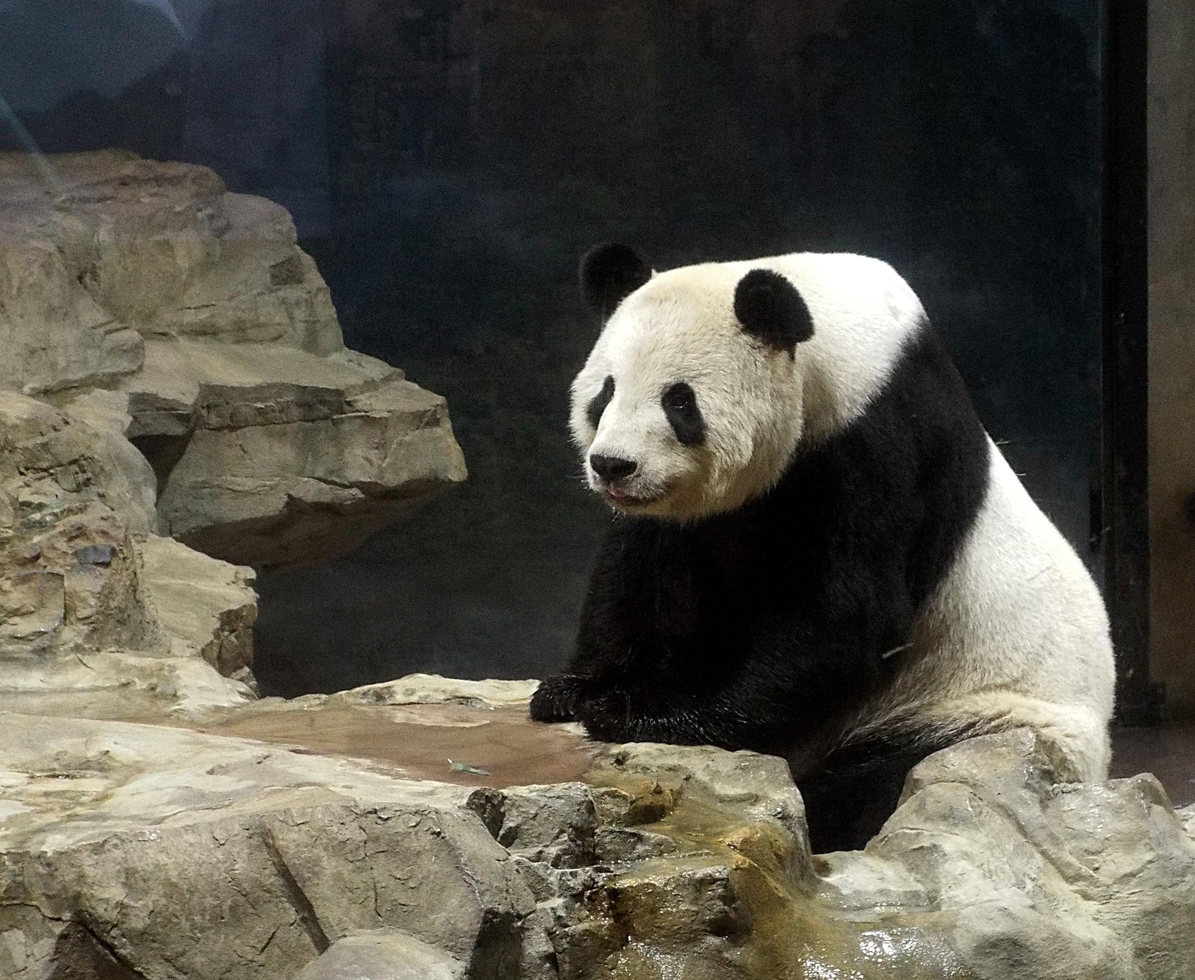panda: (563, 243, 1119, 803)
